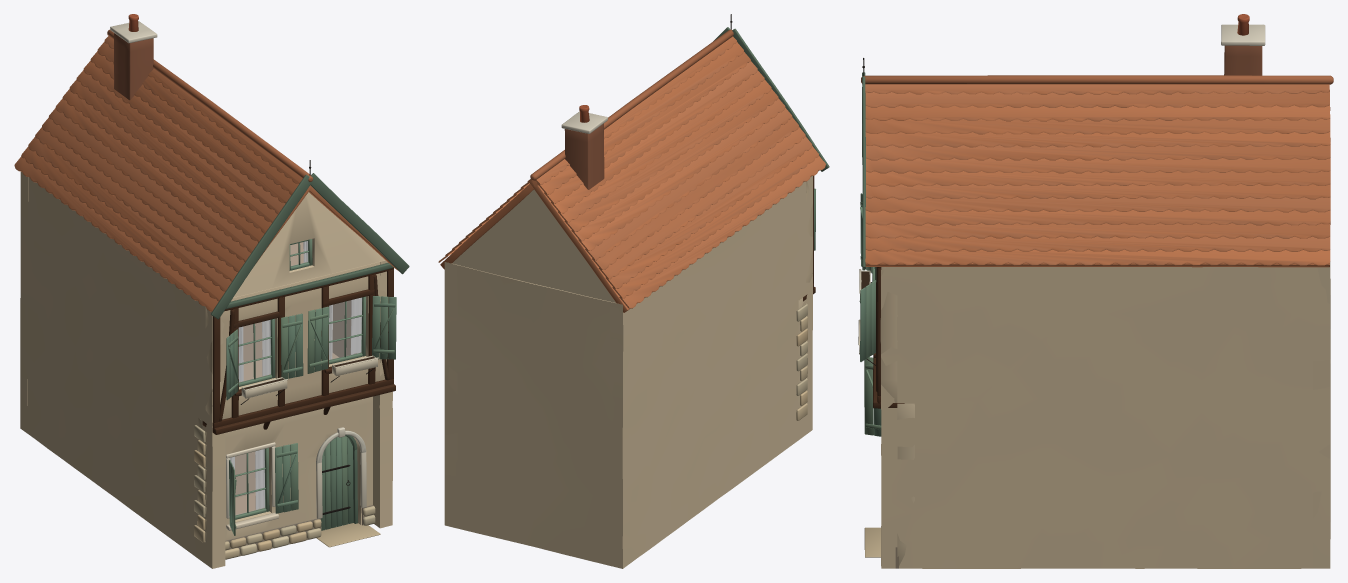
File: Opposite_Opposite1_3.glb
The picture shows the model from 3 angles, left to right: view 1: azimuth 30°, elevation 25°; view 2: azimuth 150°, elevation 25°; view 3: azimuth 270°, elevation 25°; orthographic projection. The views are drawn at different scales.
Visible parts, largest first — view 1: Sammel Putz, Sammel Stein, Sammel Lack, Sammel Holz, Glas, Sammel Putz innen, Vorhang Leinen, Sammel Ziegel; view 2: Sammel Putz, Sammel Stein, Sammel Ziegel, Sammel Lack; view 3: Sammel Putz, Sammel Stein, Sammel Lack, Sammel Ziegel, Sammel Holz.
Boxes of the visible parts, x1,y1,x2,y2 form: Sammel Putz: [20, 14, 392, 568]; Sammel Stein: [14, 29, 398, 559]; Sammel Lack: [211, 173, 409, 535]; Sammel Holz: [202, 268, 395, 434]; Glas: [230, 241, 361, 515]; Sammel Putz innen: [235, 242, 356, 514]; Vorhang Leinen: [230, 241, 361, 509]; Sammel Ziegel: [114, 33, 153, 100]; Sammel Putz: [444, 105, 812, 568]; Sammel Stein: [438, 29, 825, 420]; Sammel Ziegel: [564, 123, 604, 189]; Sammel Lack: [713, 27, 829, 250]; Sammel Putz: [861, 14, 1330, 568]; Sammel Stein: [861, 75, 1333, 557]; Sammel Lack: [858, 72, 881, 436]; Sammel Ziegel: [1224, 45, 1262, 75]; Sammel Holz: [873, 267, 904, 408].
Bounding box in the file's own units: 4.95 × 10.06 × 8.78.
